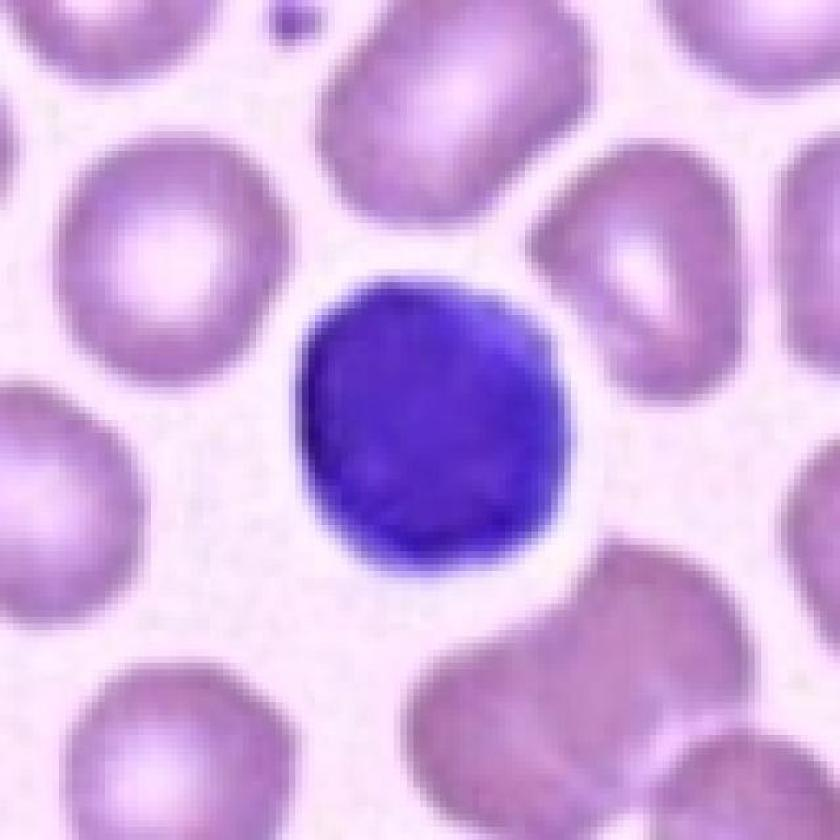lymphocyte: (286, 255, 596, 591)
